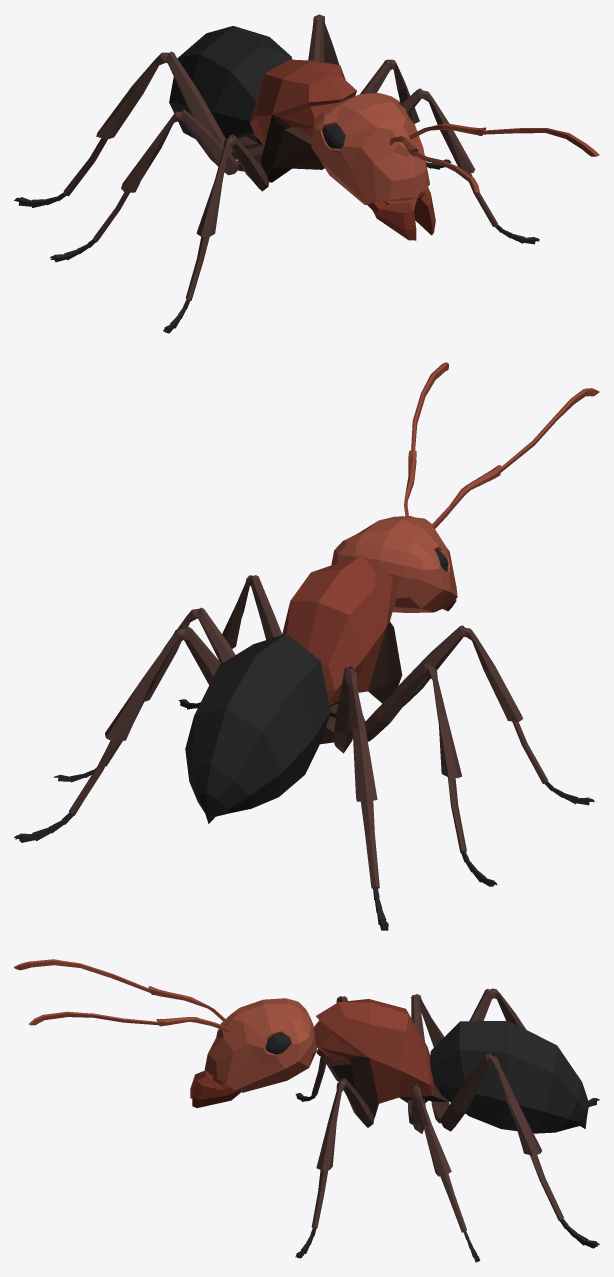
The model's file is animal_004.fbx.
The picture shows the model from 3 angles, top to bottom: view 1: azimuth 30°, elevation 25°; view 2: azimuth 150°, elevation 25°; view 3: azimuth 270°, elevation 25°; orthographic projection. The views are drawn at different scales.
Visible parts, largest first — view 1: animal.004; view 2: animal.004; view 3: animal.004.
Boxes of the visible parts, x1,y1,x2,y2 form: animal.004: (14, 14, 599, 333); animal.004: (14, 362, 599, 930); animal.004: (14, 959, 599, 1262).
Size of the model in its own units: 342 by 188 by 485.
Materials: 1 (1 with a texture image).
